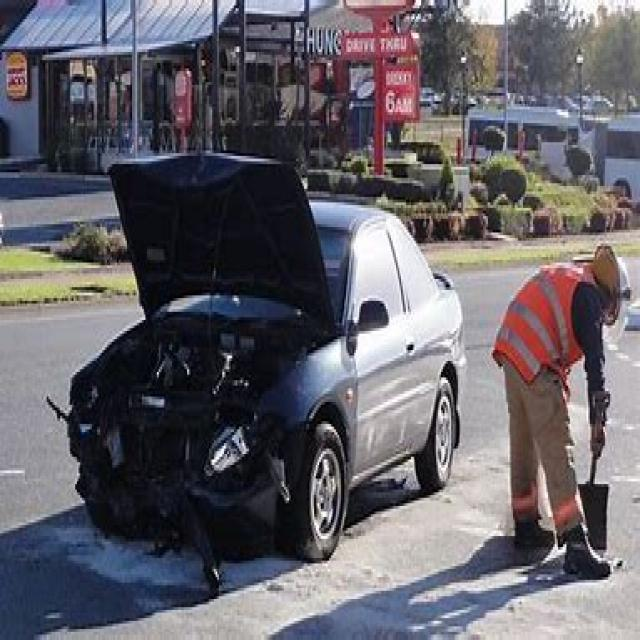Accident: (53, 104, 360, 570)
